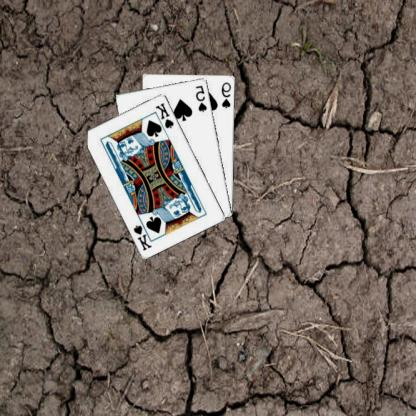5S: (195, 83, 210, 113)
9S: (221, 80, 234, 110)
KS: (132, 217, 156, 252), (155, 100, 177, 129)
